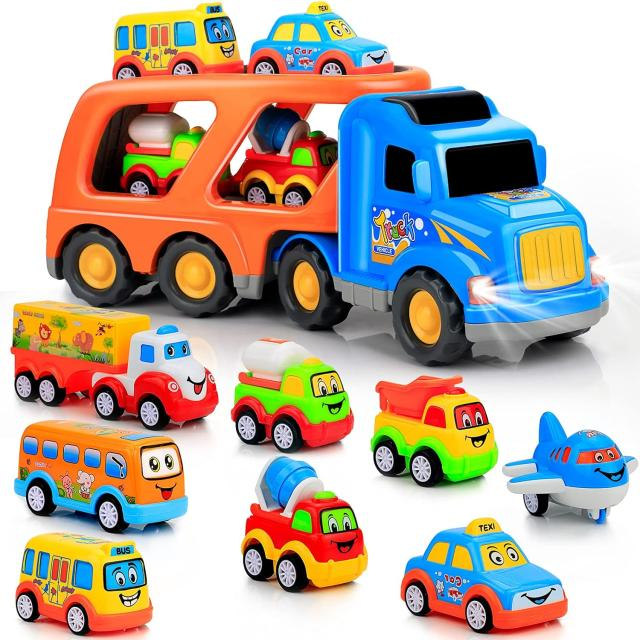vehicle: (83, 5, 640, 319), (15, 284, 231, 421), (19, 388, 203, 532), (234, 461, 376, 614), (9, 513, 176, 640), (402, 511, 566, 640), (531, 373, 640, 542), (373, 363, 508, 495), (234, 330, 358, 454)
